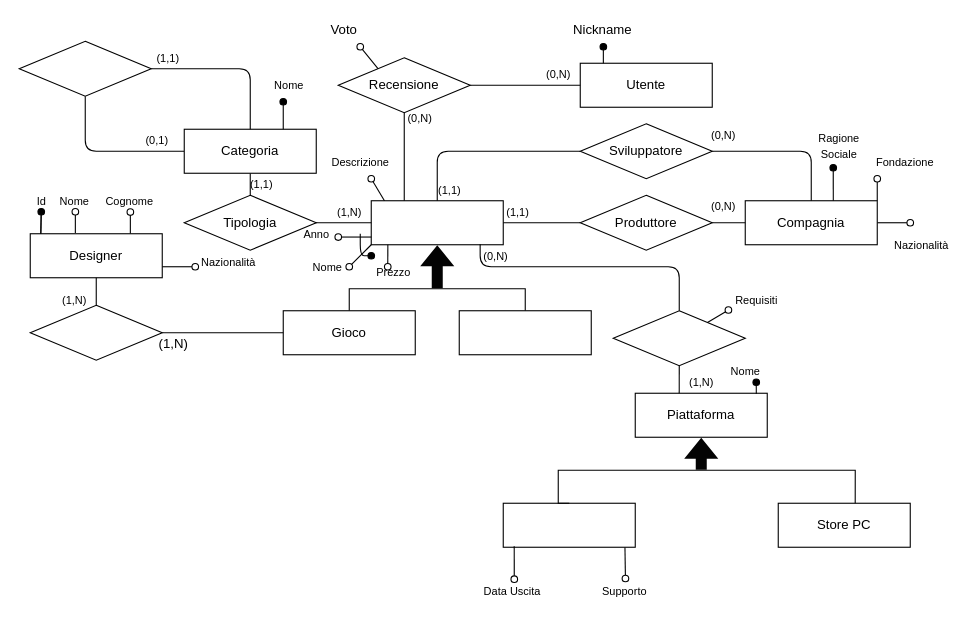
This 974x620 diagram has some shape labels left out. The centre of each missing label's shape, as x and y in pixels:
"Console" goes at (568,524).
"Disponibilità" goes at (678,338).
"Prodotto" goes at (436,222).
"Progettazione" goes at (95,332).
"Software" goes at (524,332).
"Sottogenere" goes at (84,68).
